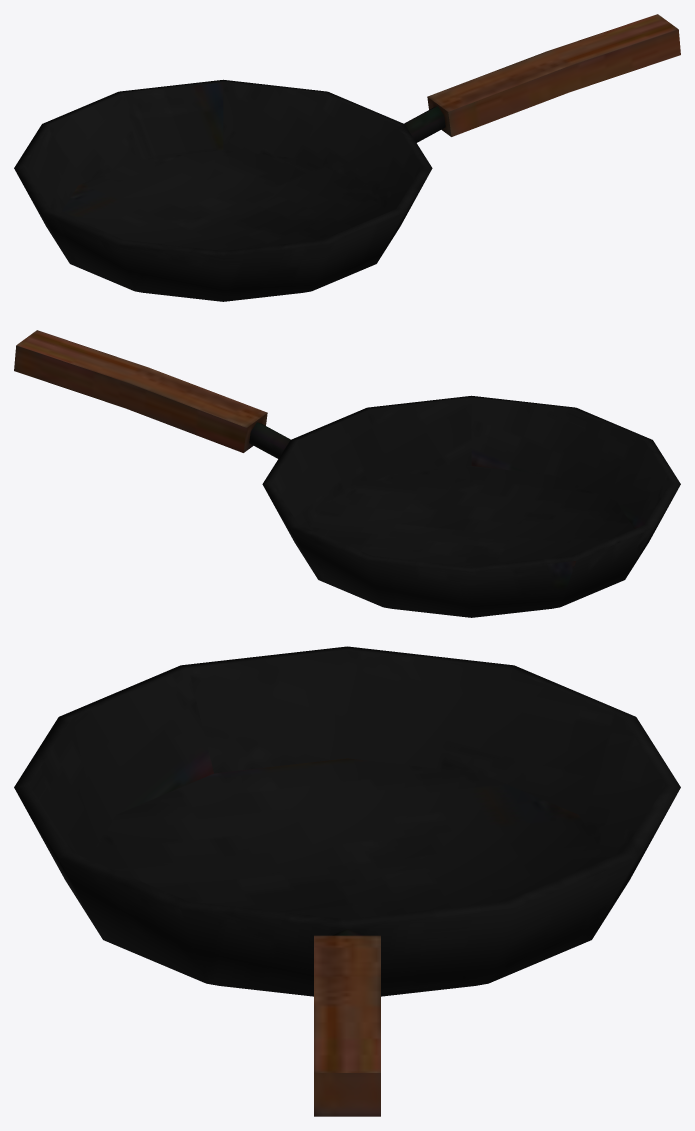
Rendered from frying_pan_lod1_web.glb.
The picture shows the model from 3 angles, top to bottom: view 1: azimuth 30°, elevation 25°; view 2: azimuth 150°, elevation 25°; view 3: azimuth 270°, elevation 25°; orthographic projection. The views are drawn at different scales.
Visible parts, largest first — view 1: FryingPan_Body; view 2: FryingPan_Body; view 3: FryingPan_Body.
Boxes of the visible parts, x1,y1,x2,y2 form: FryingPan_Body: (14, 14, 680, 301); FryingPan_Body: (14, 330, 680, 617); FryingPan_Body: (14, 646, 680, 1116).
Bounding box in the file's own units: 0.4508 × 0.071 × 0.26.
1 material, 1 textured.
